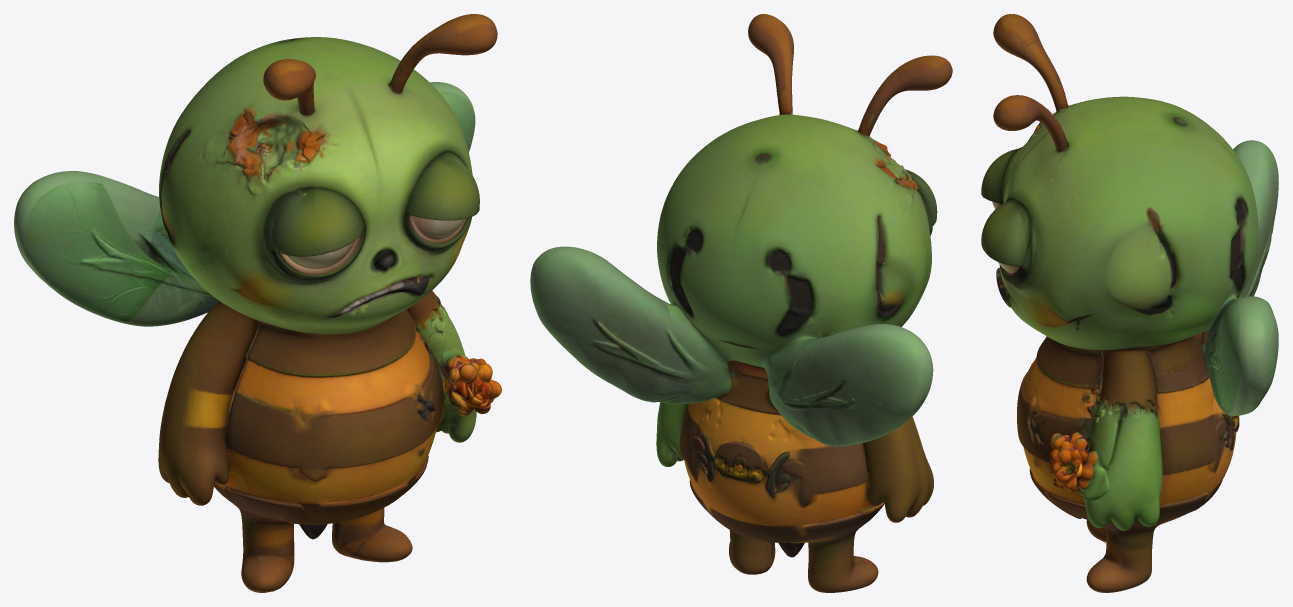
The model's file is ZomBee.glb.
3 views of the same model, side by side, from view 1: azimuth 30°, elevation 25°; view 2: azimuth 150°, elevation 25°; view 3: azimuth 270°, elevation 25° (orthographic). The views are drawn at different scales.
Size of the model in its own units: 1.59 by 1.9 by 1.02.
Materials: 1 (1 with a texture image).
